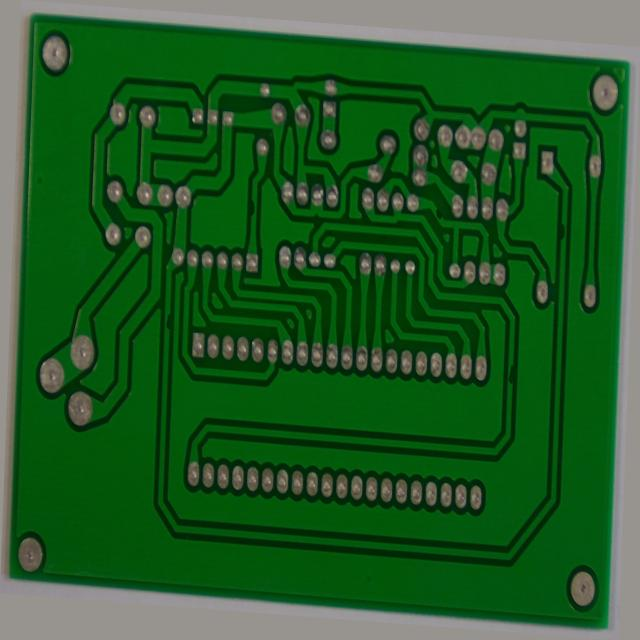mouse_bite: (513, 343, 525, 380), (560, 190, 572, 222), (155, 320, 168, 348), (240, 191, 253, 215), (432, 185, 445, 206)
